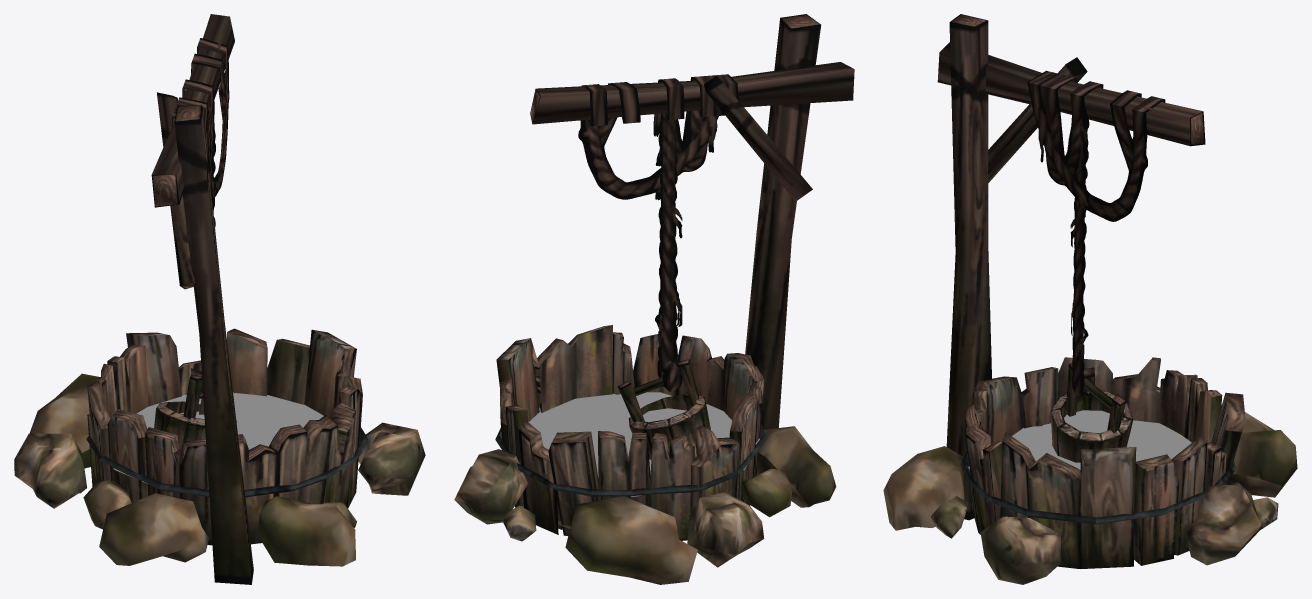
File: PRP_WellVillage.FBX
3 views of the same model, side by side, from view 1: azimuth 30°, elevation 25°; view 2: azimuth 150°, elevation 25°; view 3: azimuth 270°, elevation 25° (orthographic).
Visible parts, largest first — view 1: PRP_WellVillage; view 2: PRP_WellVillage; view 3: PRP_WellVillage.
Part boxes in pixels (x1=…): PRP_WellVillage: x1=14, y1=14, x2=425, y2=584; PRP_WellVillage: x1=454, y1=14, x2=854, y2=584; PRP_WellVillage: x1=883, y1=14, x2=1297, y2=584.
Size of the model in its own units: 261 by 370 by 295.
